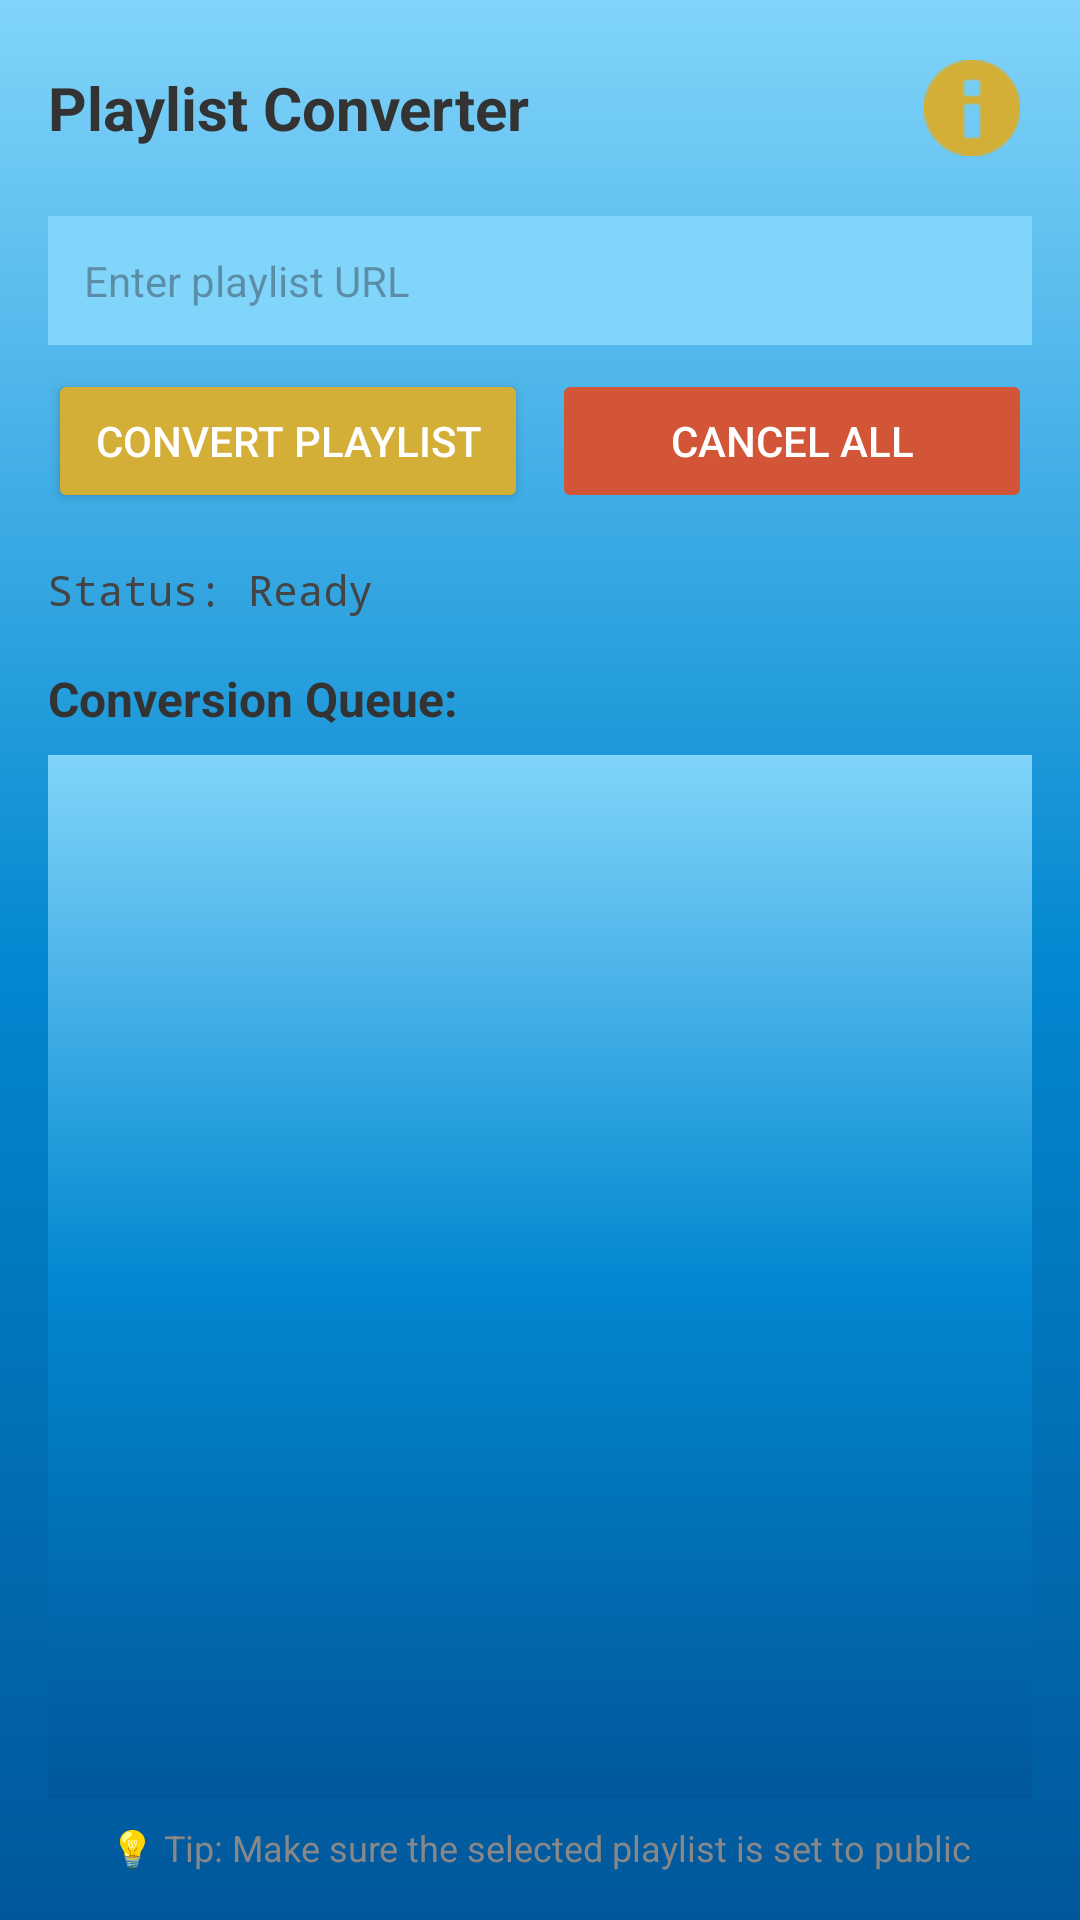

Screen size 1080x1920. Icon name, then its center in pixels as [x,y]:
Show help information: [972,108]
